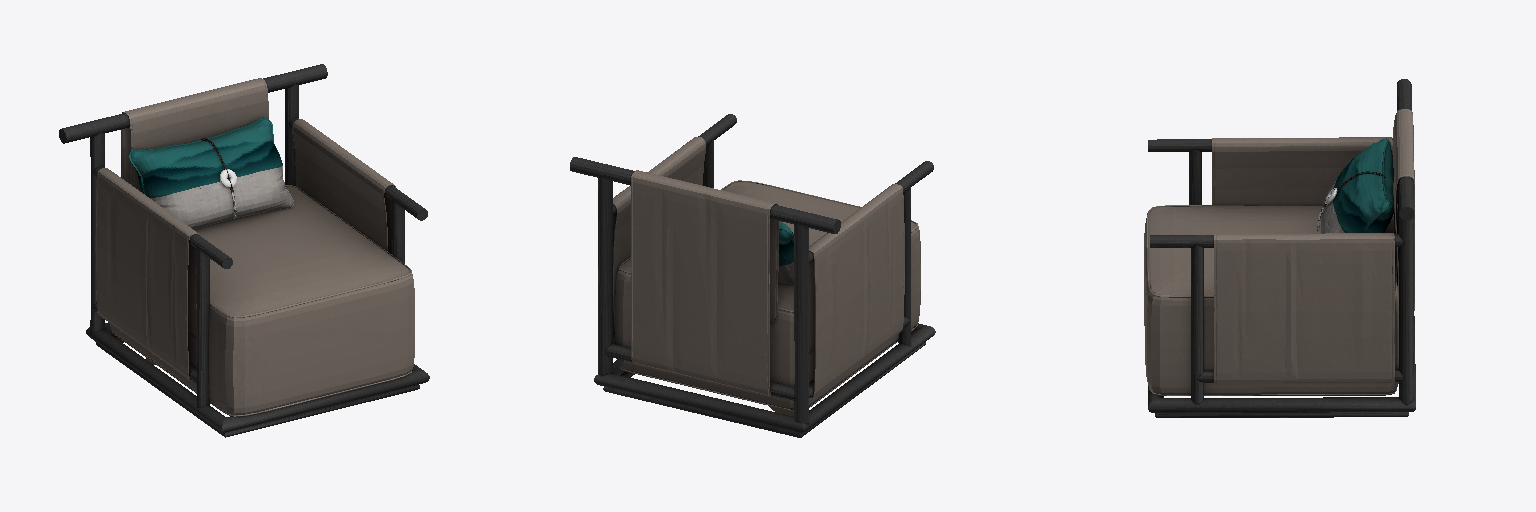
The picture shows the model from 3 angles: view 1: azimuth 30°, elevation 25°; view 2: azimuth 150°, elevation 25°; view 3: azimuth 270°, elevation 25°; orthographic projection.
Visible parts, largest first — view 1: solid_007, solid_003, solid_001, solid_002; view 2: solid_007, solid_003, solid_001; view 3: solid_007, solid_003, solid_001.
Part boxes in pixels (x1,y1,x2,y2): solid_007: (95, 78, 414, 416); solid_003: (59, 64, 429, 437); solid_001: (129, 117, 282, 197); solid_002: (150, 165, 293, 229); solid_007: (613, 137, 920, 416); solid_003: (570, 114, 935, 437); solid_001: (779, 221, 793, 265); solid_007: (1144, 109, 1414, 395); solid_003: (1148, 79, 1415, 417); solid_001: (1333, 138, 1393, 232).
Size of the model in its own units: 0.9485 by 0.787 by 0.8535.
1 materials, 1 textured.